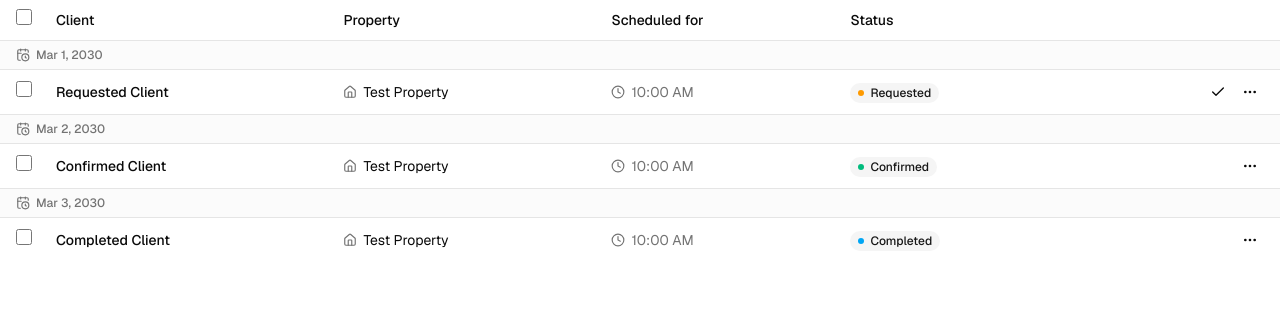
Scenario: AppointmentsTable › offers no lifecycle actions for a terminal (COMPLETED) appointment
Click the button named "Actions for Completed Client".
click(1250, 240)  # box [1236,226,1264,254]
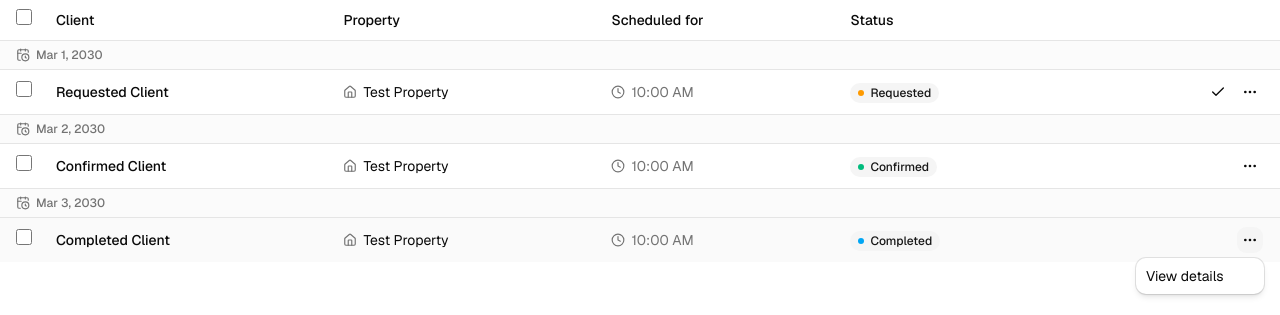
Result: the menu item "View details" is shown at [1146,267,1224,285]
